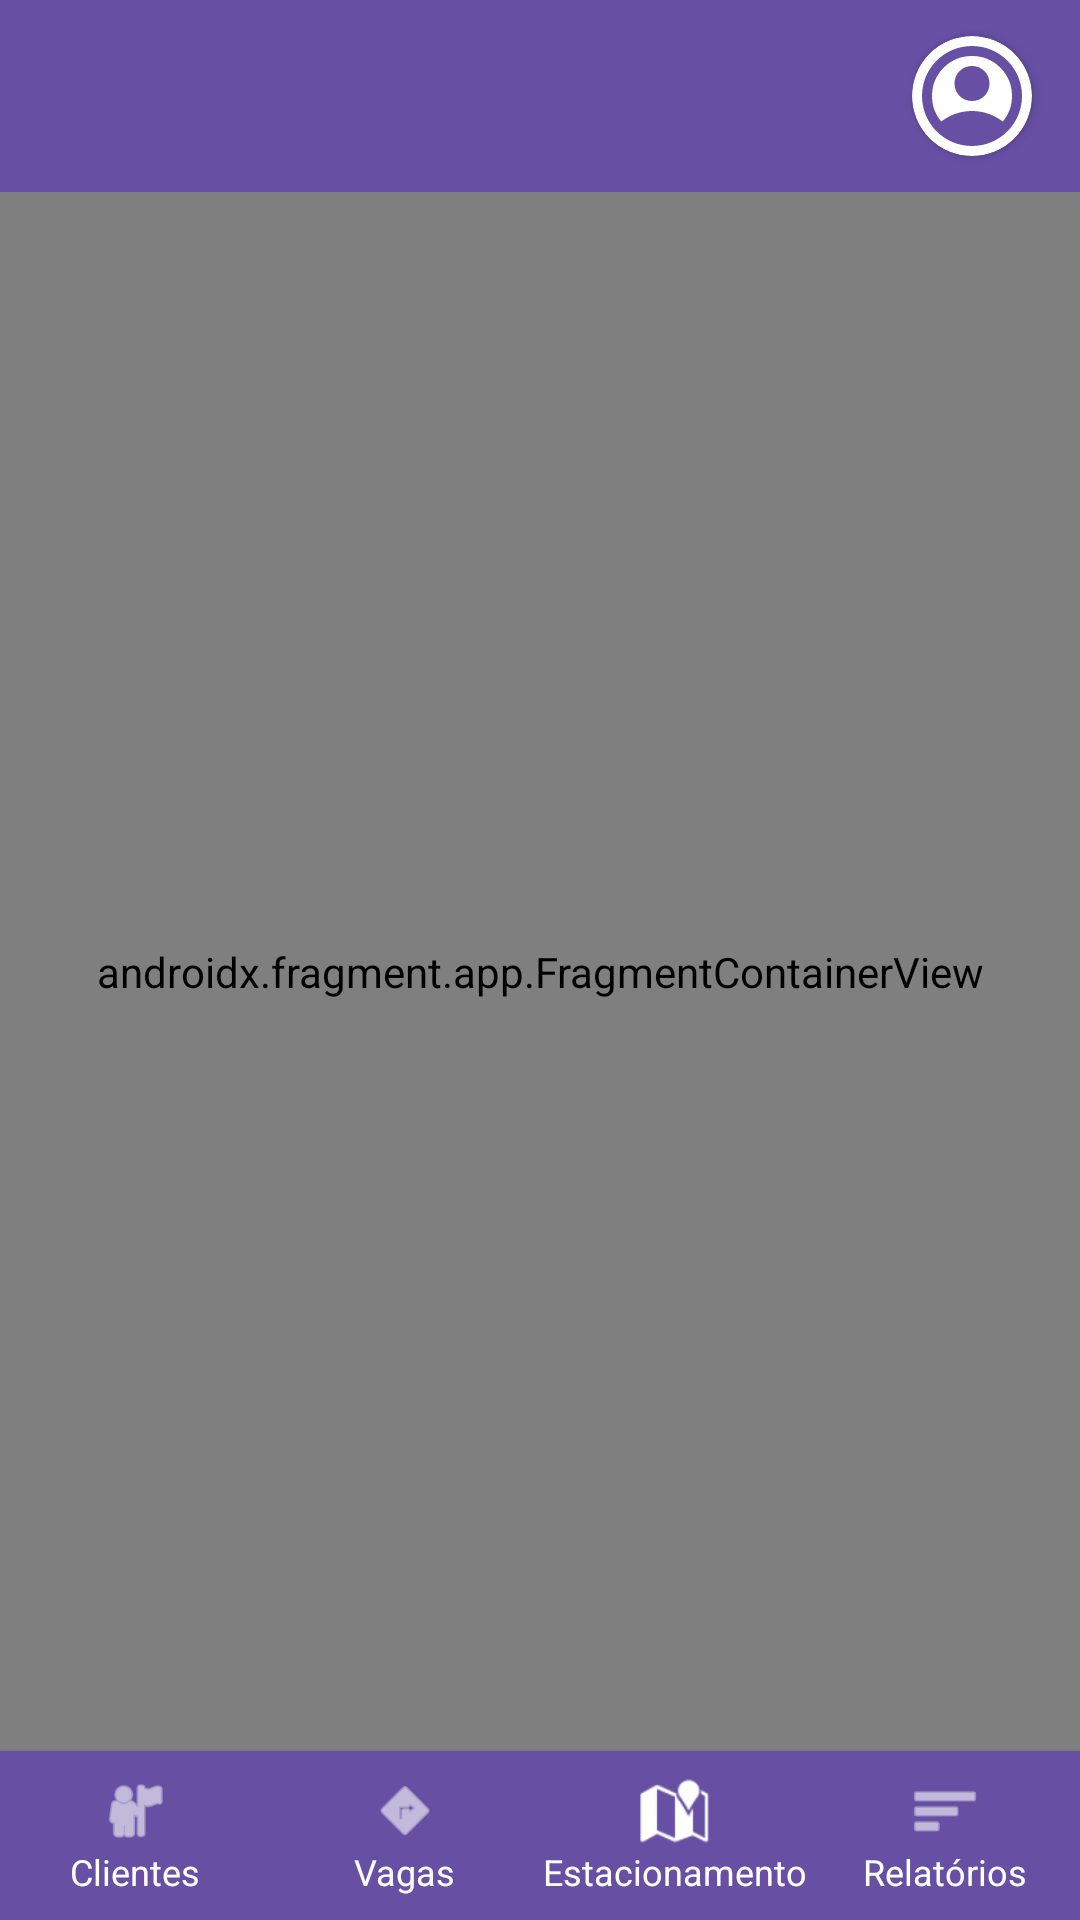

Locate icon controls on the screen. Image size 1080 × 1920, boxes as (left=x1, top=y1, right=x2, bottom=y2).
Foto do perfil: (left=912, top=36, right=1032, bottom=156)
